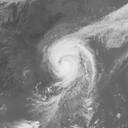cyclone: (42, 27, 99, 97)
